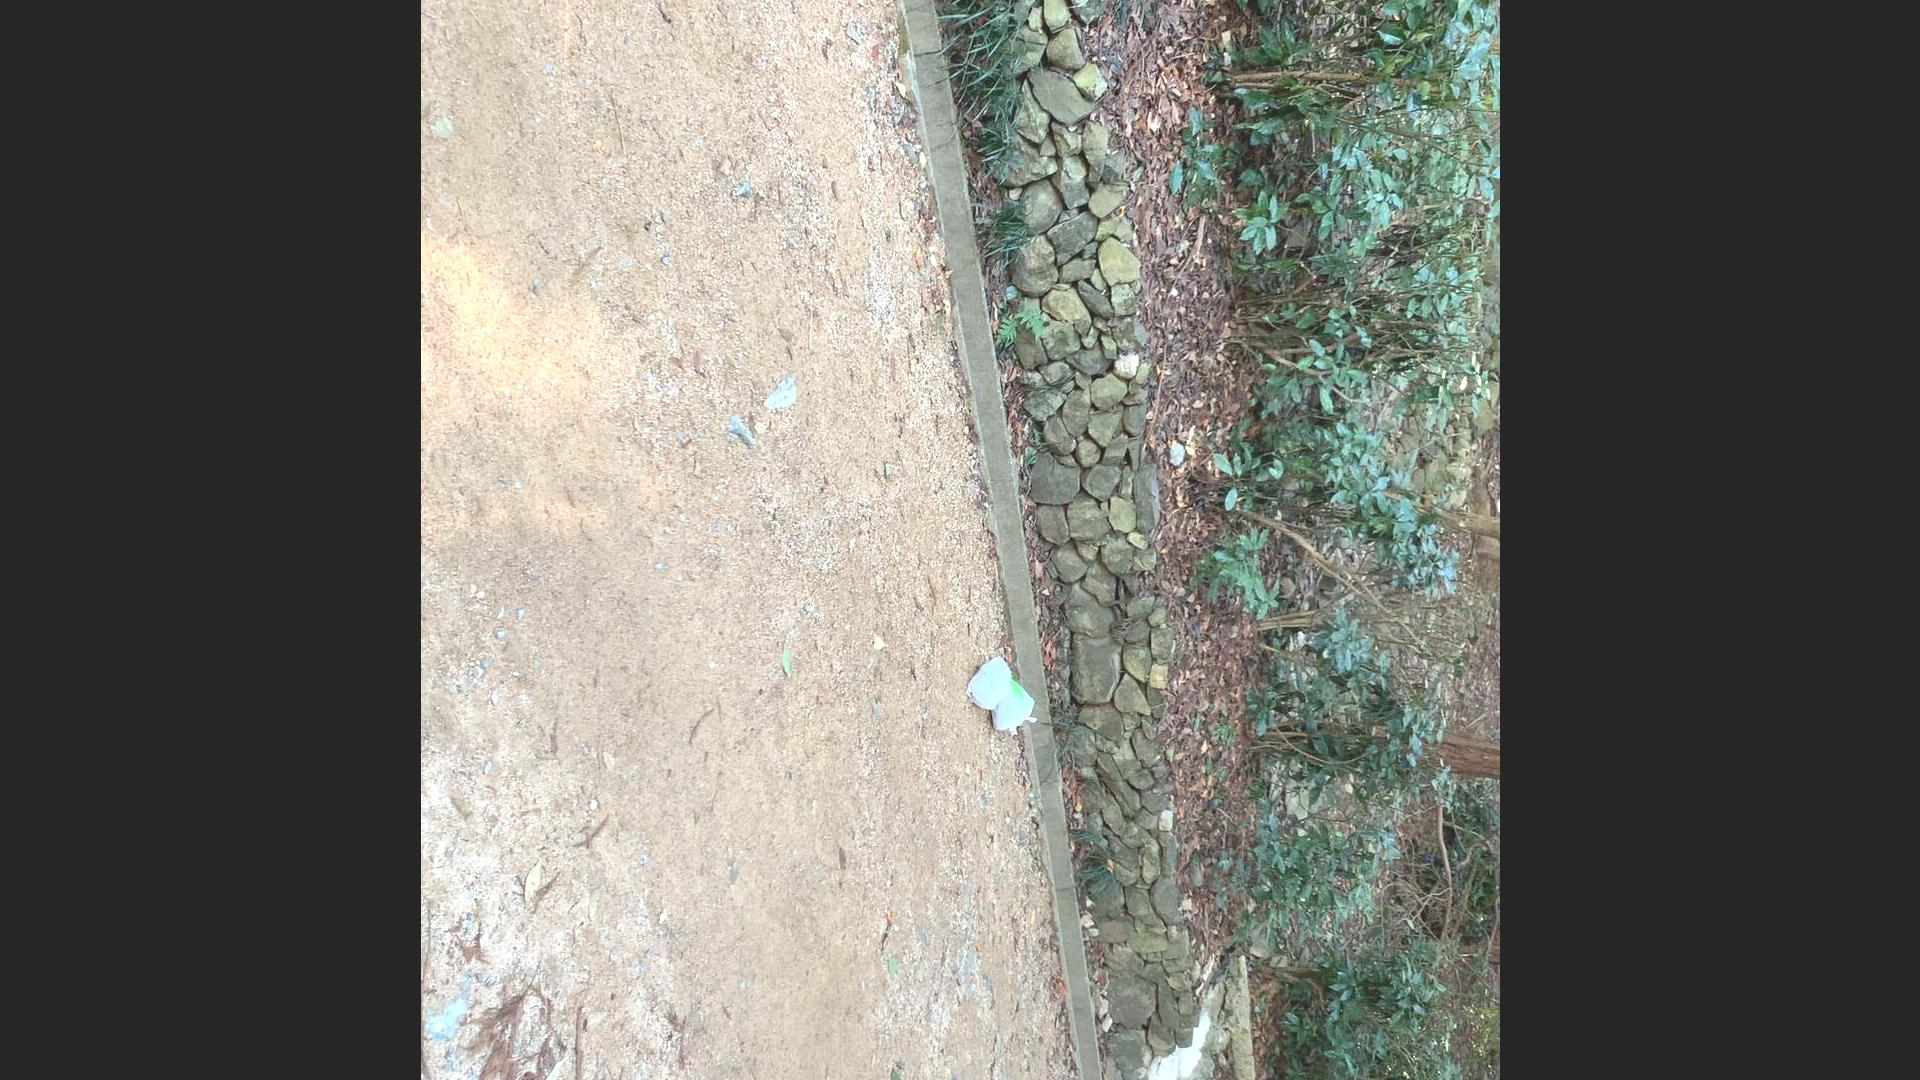white_bag: (986, 676, 1039, 736), (965, 651, 1013, 713)
